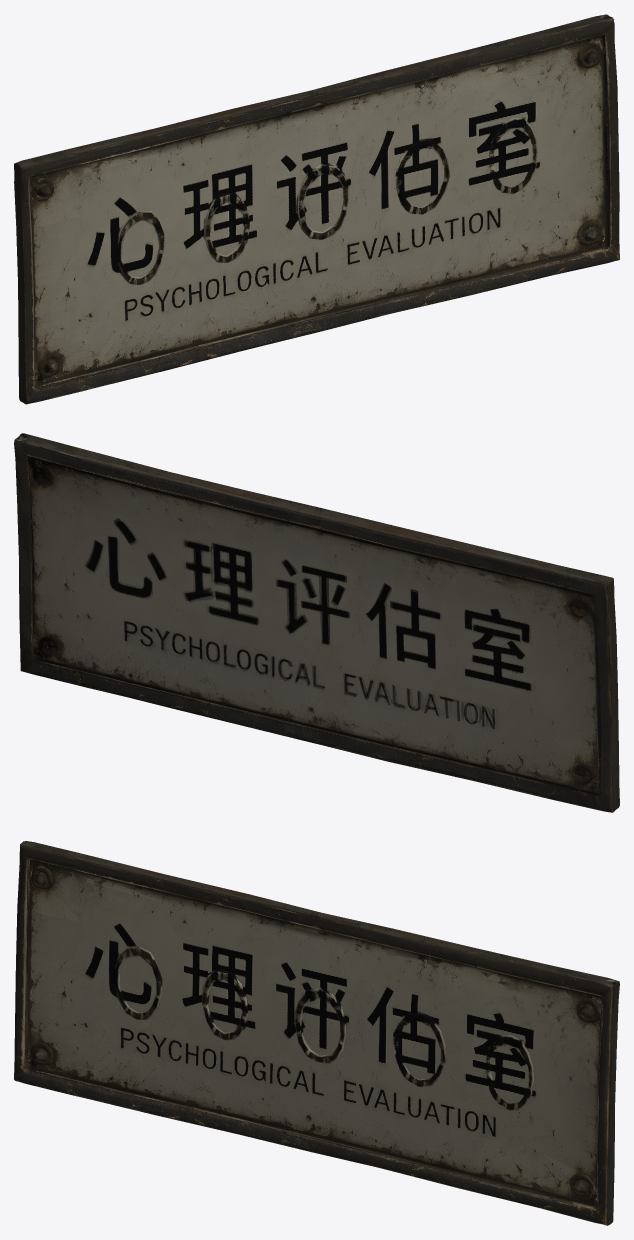
The model's file is sign2.fbx.
The picture shows the model from 3 angles, top to bottom: view 1: azimuth 30°, elevation 25°; view 2: azimuth 150°, elevation 25°; view 3: azimuth 330°, elevation 25°; orthographic projection.
Parts seen in each view (by area): view 1: mesh_node; view 2: mesh_node; view 3: mesh_node.
Boxes of the visible parts, box(x1,y1,x2,y2) form: mesh_node: box(14, 14, 619, 404); mesh_node: box(14, 433, 619, 812); mesh_node: box(14, 841, 619, 1225).
Bounding box in the file's own units: 100 × 38.48 × 5.05.
Materials: 1 (1 with a texture image).
